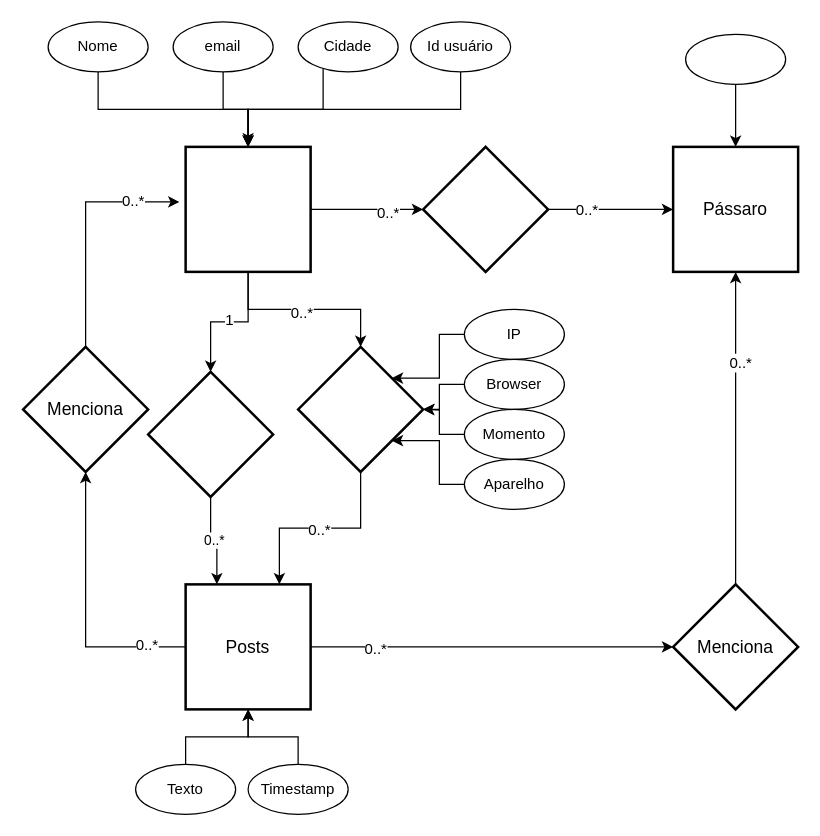
Image size: 820x836. Some labels were removed from this diagram. The shapes that lost their labels are listed below. From the top down, each one's centre as x and y in pixels, then its label:
(735,58): Espécie
(247,208): Usuário
(485,208): Prefere
(360,408): Vê
(210,434): Faz
